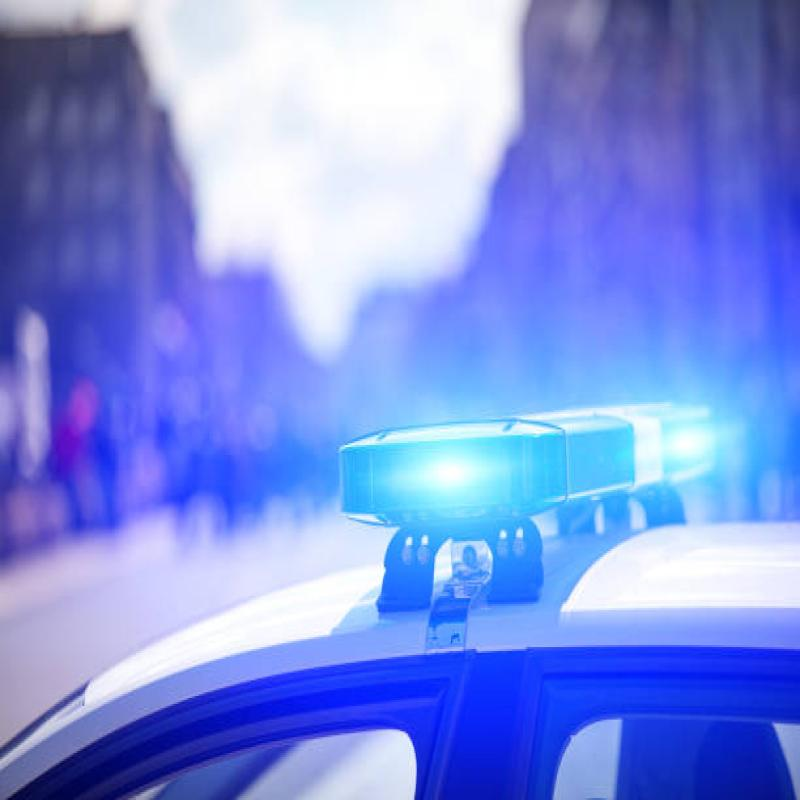AmbulanceSiren: (318, 348, 740, 582)
